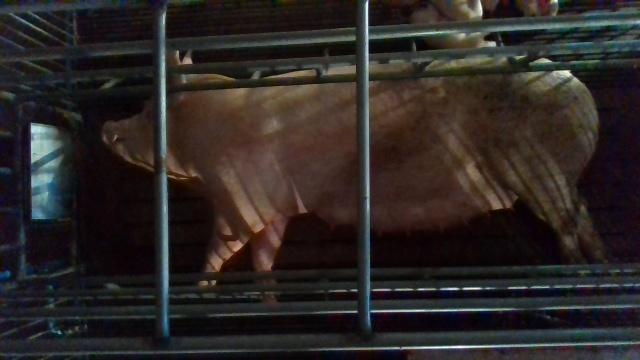piglet: (415, 5, 495, 48), (487, 0, 561, 16), (428, 0, 485, 20)
sow-sleep-lactate: (98, 48, 611, 305)
